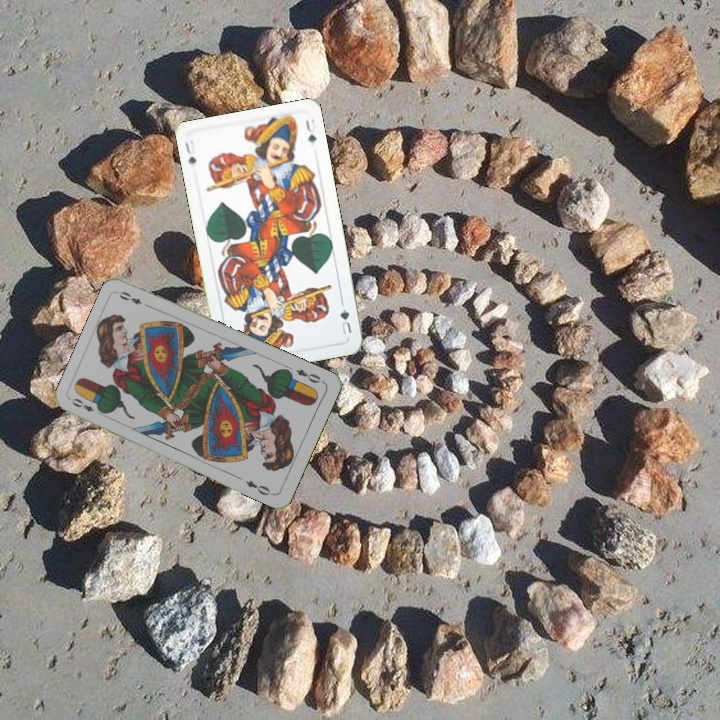EO: (68, 394, 106, 417), (292, 365, 326, 386)
GU: (336, 299, 354, 338), (181, 136, 199, 167)
